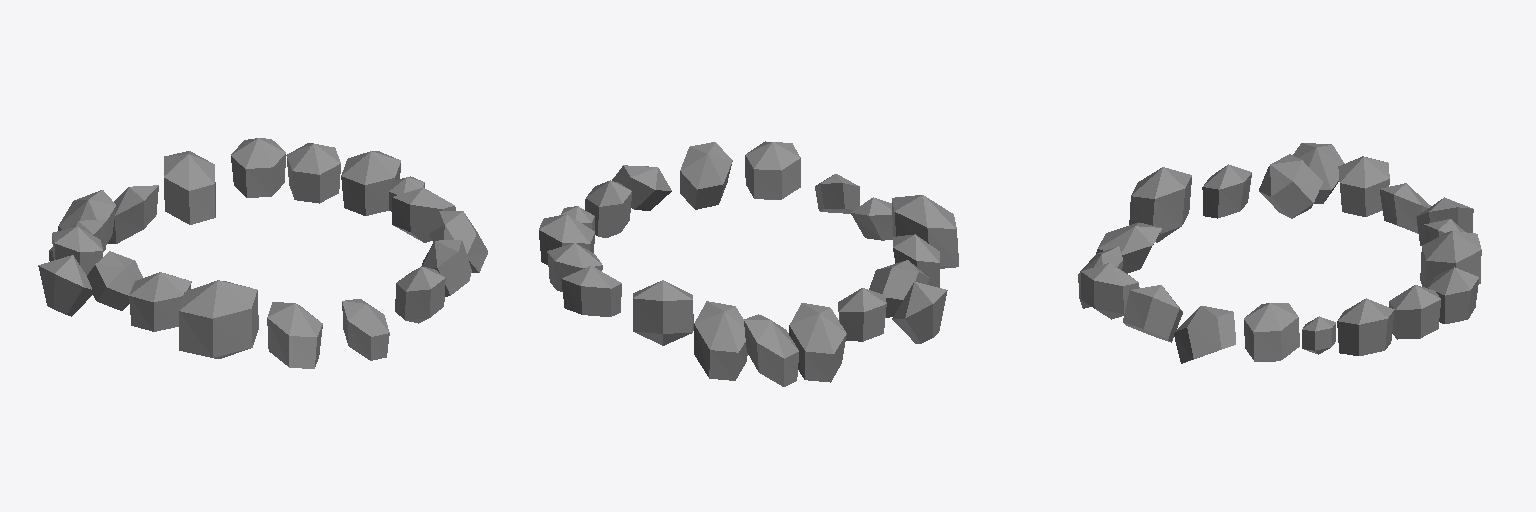
File: fireplace_2.obj
3 views of the same model, side by side, from view 1: azimuth 30°, elevation 25°; view 2: azimuth 150°, elevation 25°; view 3: azimuth 270°, elevation 25° (orthographic).
Parts seen in each view (by area): view 1: Sphere007, Sphere004, Sphere010, Sphere012, Sphere014, Sphere011, Sphere005, Sphere020, Sphere015, Sphere003, Sphere002, Sphere001 (+6 smaller); view 2: Sphere013, Sphere006, Sphere004, Sphere007, Sphere015, Sphere018, Sphere008, Sphere011, Sphere020, Sphere009, Sphere001, Sphere016 (+6 smaller); view 3: Sphere007, Sphere001, Sphere002, Sphere012, Sphere016, Sphere009, Sphere004, Sphere008, Sphere015, Sphere005, Sphere014, Sphere011 (+6 smaller).
Part boxes in pixels (x1,y1,x2,y2): Sphere007: (179, 280, 258, 358); Sphere004: (164, 151, 215, 224); Sphere010: (267, 302, 322, 368); Sphere012: (341, 151, 400, 215); Sphere014: (129, 272, 191, 331); Sphere011: (231, 138, 285, 197); Sphere005: (286, 143, 340, 203); Sphere020: (38, 255, 92, 316); Sphere015: (395, 266, 445, 323); Sphere003: (342, 299, 389, 360); Sphere002: (87, 251, 142, 310); Sphere001: (392, 187, 455, 242); Sphere013: (694, 301, 747, 380); Sphere006: (789, 303, 846, 382); Sphere004: (633, 280, 693, 345); Sphere007: (892, 195, 958, 268); Sphere015: (745, 141, 800, 199); Sphere018: (744, 314, 798, 386); Sphere008: (680, 142, 732, 209); Sphere011: (561, 266, 621, 316); Sphere020: (892, 282, 947, 343); Sphere009: (838, 288, 886, 341); Sphere001: (585, 180, 631, 237); Sphere016: (612, 165, 671, 210); Sphere007: (1129, 167, 1191, 242); Sphere001: (1244, 303, 1299, 361); Sphere002: (1259, 154, 1322, 218); Sphere012: (1337, 298, 1394, 355); Sphere016: (1174, 306, 1235, 363); Sphere009: (1338, 156, 1389, 216); Sphere004: (1420, 231, 1481, 287); Sphere008: (1123, 285, 1182, 342); Sphere015: (1081, 263, 1139, 319); Sphere005: (1389, 285, 1440, 339); Sphere014: (1202, 164, 1251, 218); Sphere011: (1428, 267, 1478, 323).
Bounding box in the file's own units: 83.43 × 17.51 × 76.13.